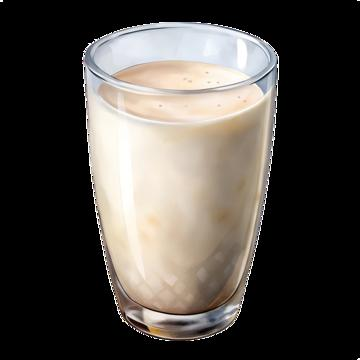produk_susu: (106, 47, 247, 308)
